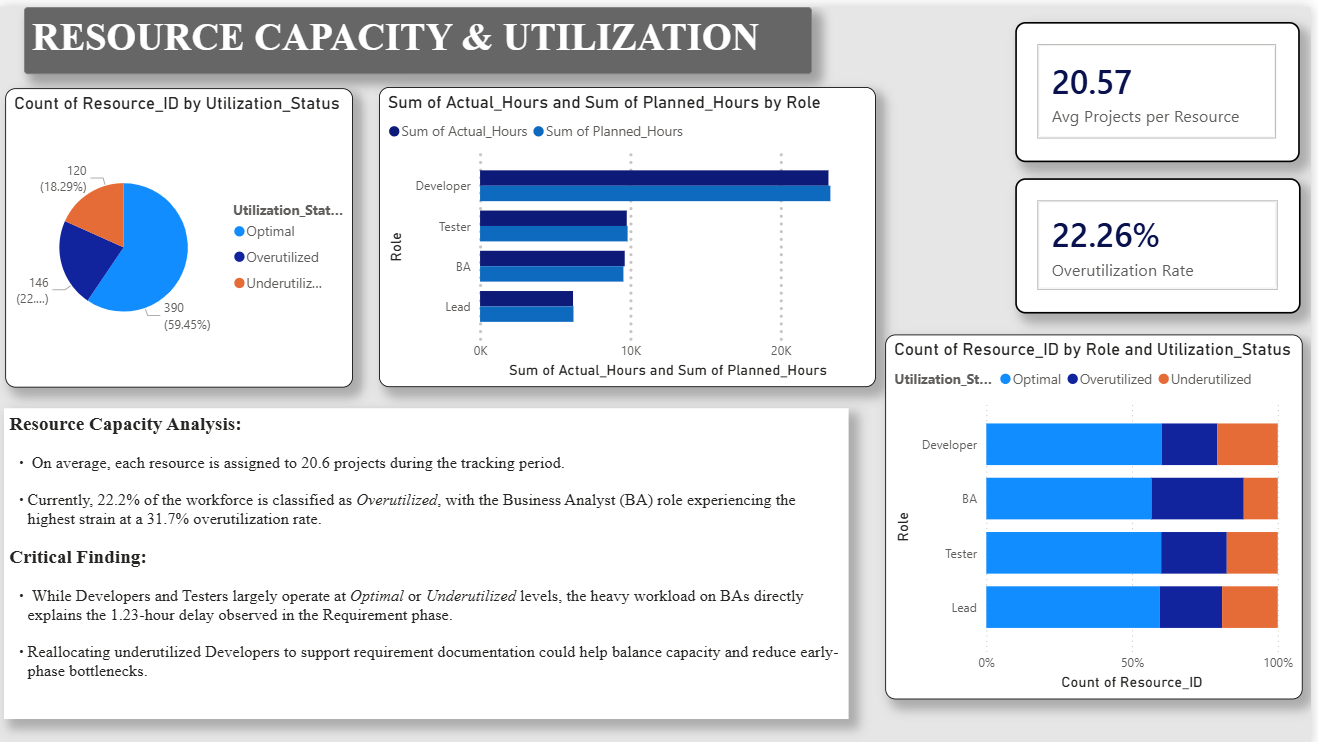

The dashboard page shown, as its layout file describes it:
{"tool":"powerbi","page":{"name":"Resource Utilization Analysis","canvas":[1280,720],"ordinal":2},"visuals":[{"type":"textbox","box":[9.7,0,592.4,107.4],"z":0},{"type":"cardVisual","title":"Overutilized Resources","fields":{"Data":["project_master.Resource Overutilization Rate %"]},"box":[9.7,107.4,294.4,139.9],"z":1000},{"type":"clusteredBarChart","fields":{"Category":["resource_allocation.Utilization_Status"],"Y":["CountNonNull(resource_allocation.Project_ID)"]},"box":[70,324.5,407.8,277.5],"z":2000},{"type":"cardVisual","title":"Avg Projects per Resource","fields":{"Data":["project_master.Avg Projects per Resource"]},"box":[388.5,107.4,293.2,139.9],"z":2001},{"type":"textbox","box":[478,325,203,277],"z":2002},{"type":"textbox","box":[691.3,102.5,548.9,499.5],"z":2003}]}

Visuals, with their boxes in screenshot pixels (x1, y1, x2, y2), scaled from the page's 1280x720 canvas onto the 1318x742 screenshot:
textbox: locate(10, 0, 620, 111)
"Overutilized Resources" cardVisual: locate(10, 111, 313, 255)
clusteredBarChart - resource_allocation.Utilization_Status x CountNonNull(resource_allocation.Project_ID): locate(72, 334, 492, 620)
"Avg Projects per Resource" cardVisual: locate(400, 111, 702, 255)
textbox: locate(492, 335, 701, 620)
textbox: locate(712, 106, 1277, 620)
